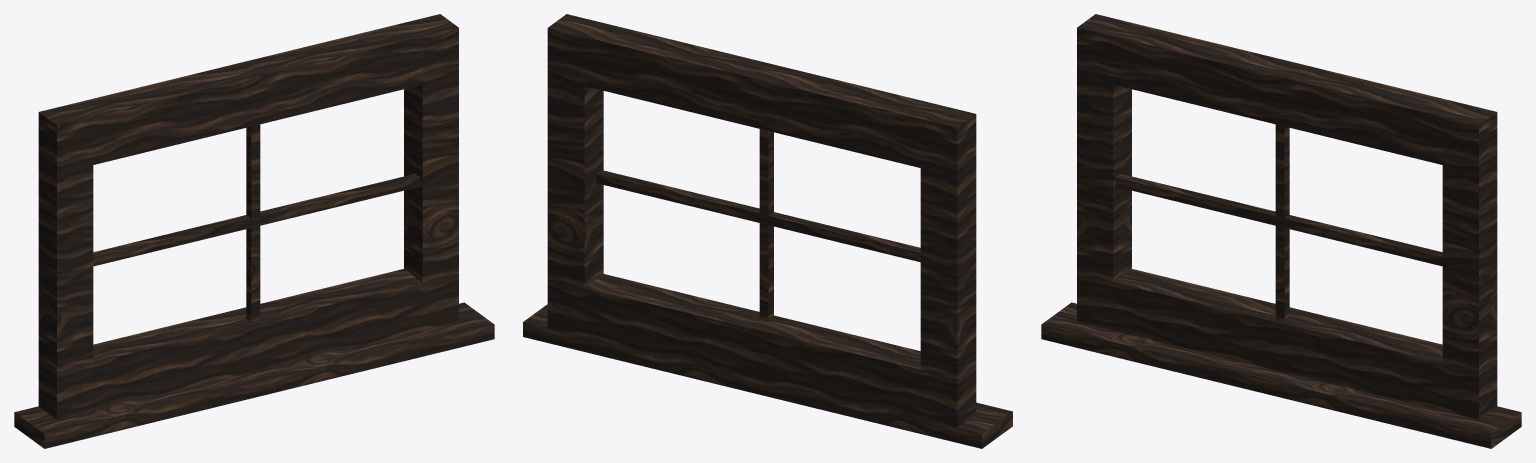
The picture shows the model from 3 angles, left to right: view 1: azimuth 30°, elevation 25°; view 2: azimuth 150°, elevation 25°; view 3: azimuth 330°, elevation 25°; orthographic projection.
Parts seen in each view (by area): view 1: frame; view 2: frame; view 3: frame.
Part boxes in pixels (x1,y1,x2,y2): frame: (14, 14, 494, 448); frame: (523, 14, 1012, 448); frame: (1041, 14, 1521, 448).
Size of the model in its own units: 1.12 by 0.735 by 0.13.
1 material, 1 textured.
